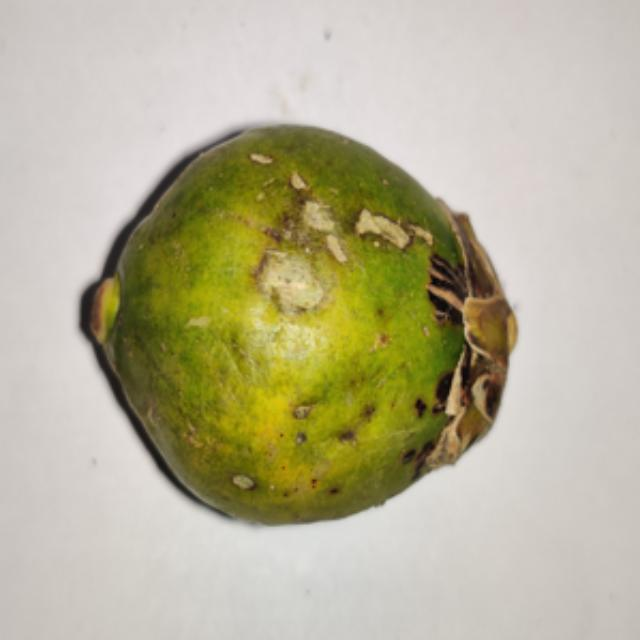damaged: (81, 124, 520, 529)
